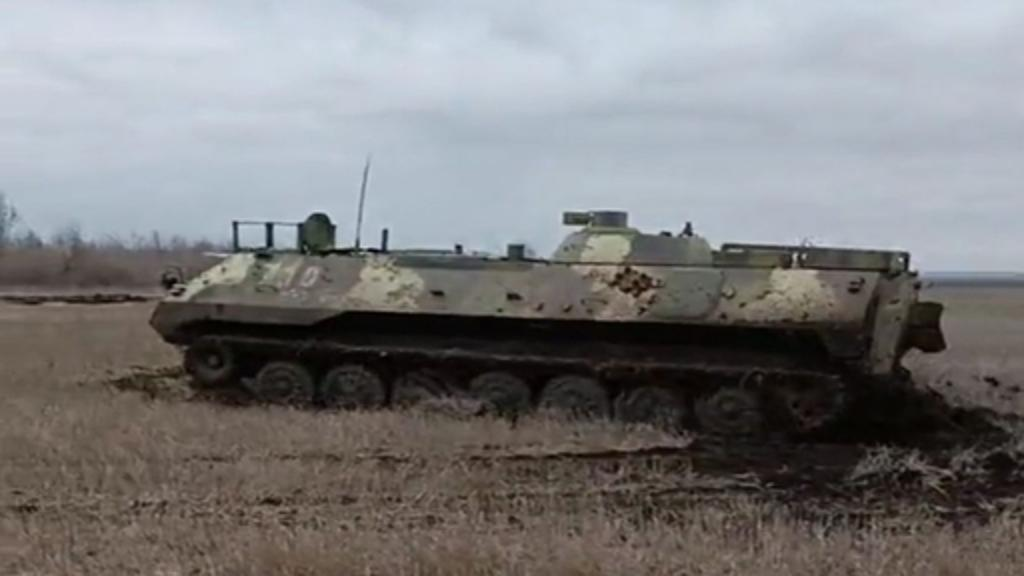APC-IFV: (140, 200, 932, 464)
